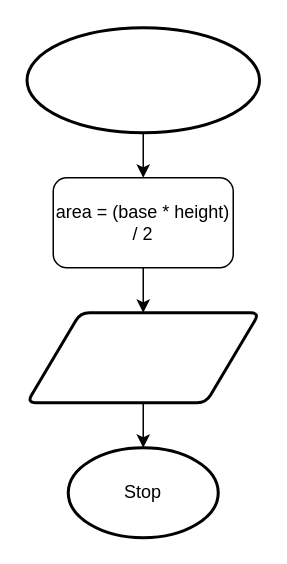
Image size: 287x564. Some labels were removed from this diagram. Here are the shapes that lost their labels. From the top down, the centre of each, then its label:
At (142,80): "triangle_area(base, height)".
At (142,357): "print The area of your triangle is areacm²".
